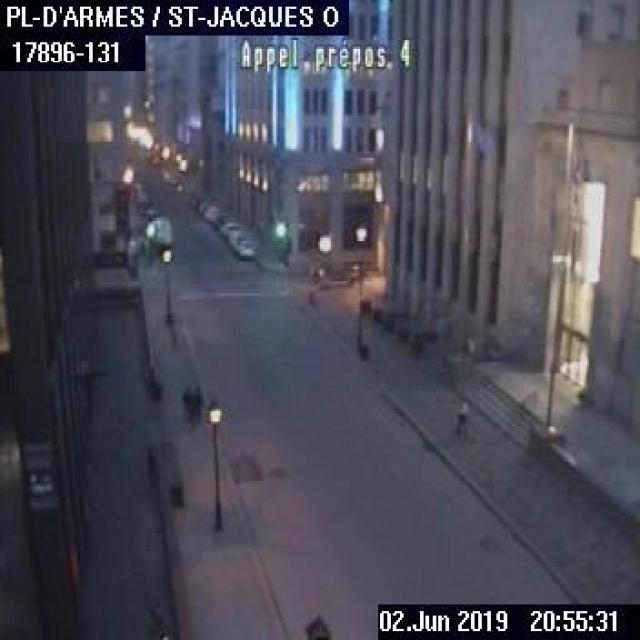pedestrian: (180, 380, 204, 427), (452, 399, 468, 438)
vehicle: (306, 252, 356, 285), (148, 215, 172, 245), (220, 220, 240, 238), (237, 238, 254, 255), (203, 204, 217, 220)
